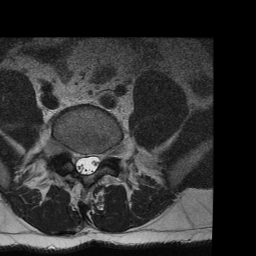CCS_normal: (84, 144, 93, 183)
LFS_normal: (101, 141, 110, 166)
LLS_normal: (93, 143, 101, 179)
RFS_normal: (66, 138, 75, 165)
RLS_normal: (75, 144, 84, 178)
